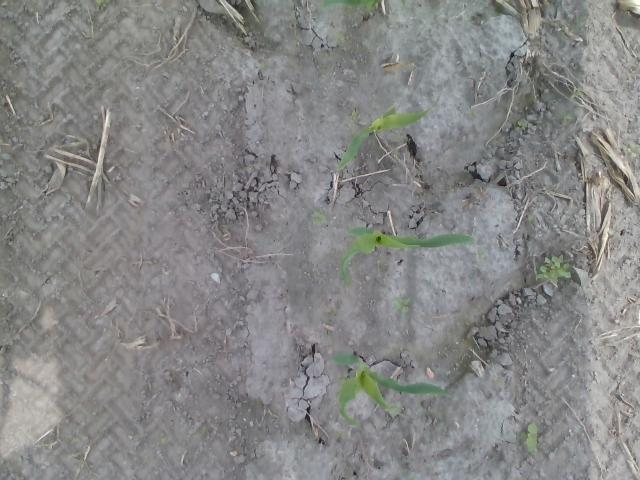Maize: (331, 353, 452, 427), (338, 226, 478, 286), (336, 96, 439, 170), (319, 0, 409, 21)
Weeds: (534, 253, 571, 284), (518, 422, 537, 453), (394, 296, 411, 314), (312, 211, 328, 224), (384, 403, 402, 414), (572, 17, 587, 29), (569, 88, 583, 100), (154, 433, 166, 446), (627, 144, 640, 156), (348, 110, 358, 125), (476, 246, 485, 262), (65, 434, 79, 444), (95, 0, 112, 8), (335, 30, 346, 42), (516, 120, 528, 131), (259, 61, 271, 71), (526, 214, 536, 226), (493, 378, 503, 387), (562, 114, 572, 123), (468, 108, 476, 117), (404, 136, 410, 144), (394, 148, 398, 156), (407, 477, 417, 480)
